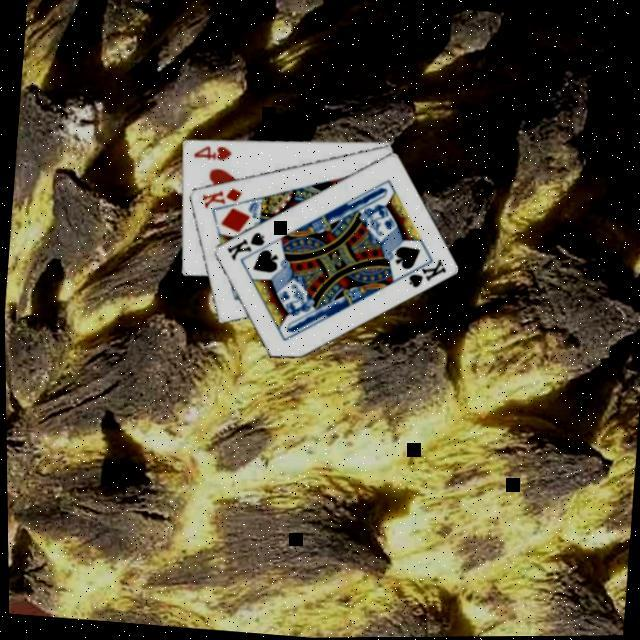4H: (187, 138, 233, 162)
KD: (196, 180, 243, 212)
KS: (394, 251, 447, 291), (221, 223, 266, 263)
